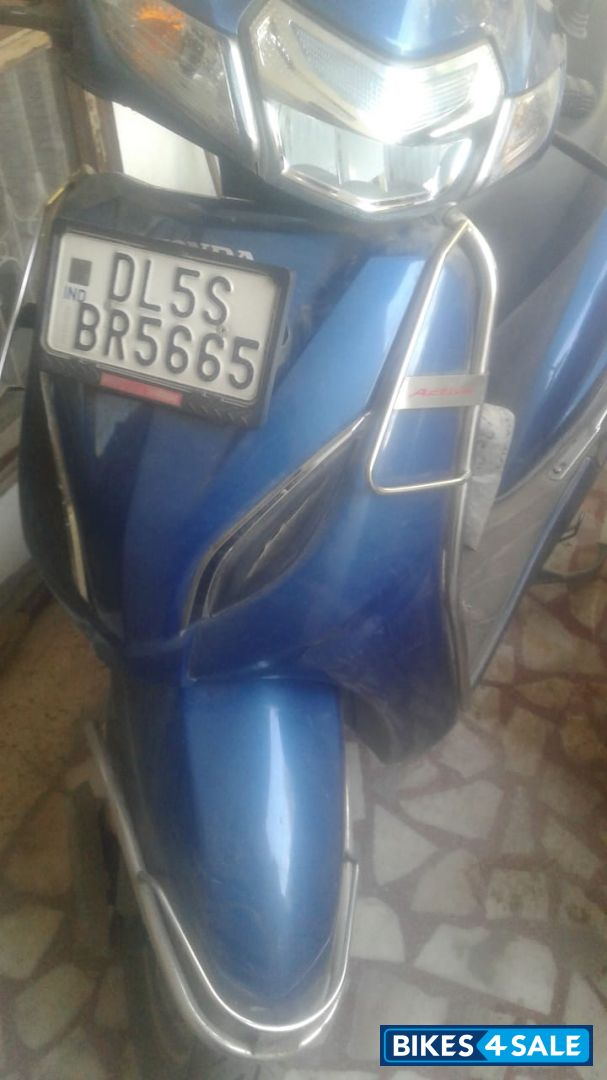doublelinenumberplate: (39, 217, 290, 431)
